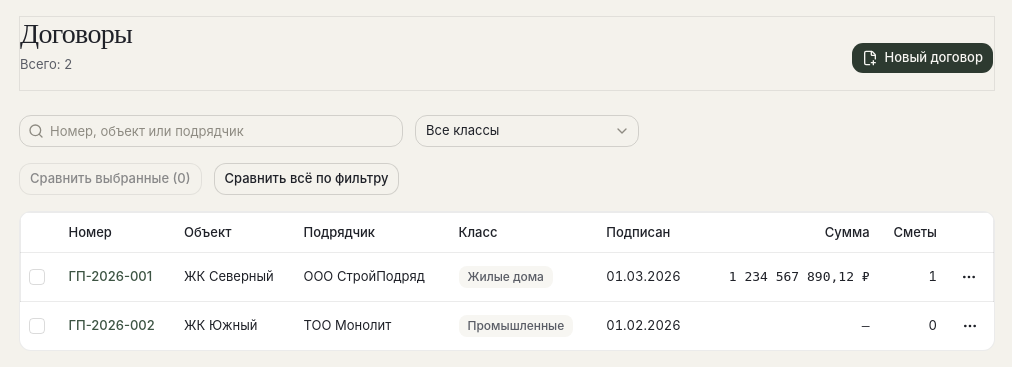
Экран «Договоры» (§7.1) › ищет договор по названию объекта
Check: the link "ГП-2026-001" is shown, box top-left (68, 268), bottom-right (152, 284)
In the field named "Поиск договоров": (223,131) top-left (44, 113), bottom-right (402, 149), type "Южный"
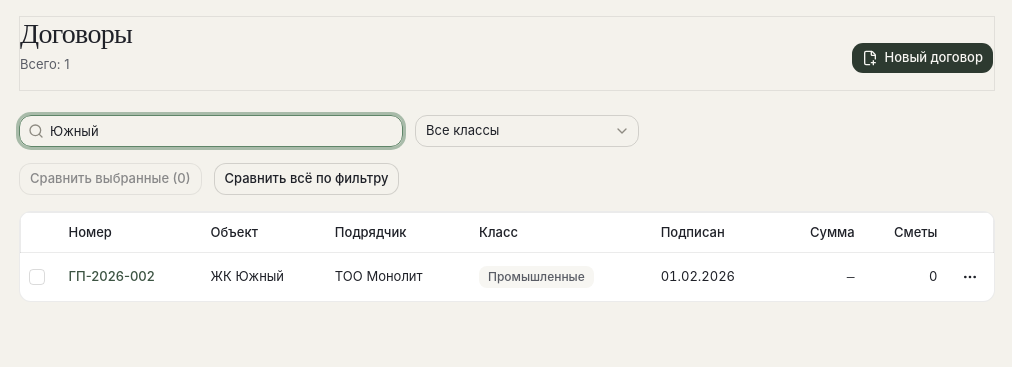
Check: the link "ГП-2026-002" is shown, box top-left (68, 268), bottom-right (155, 284)
Check: the link "ГП-2026-001" is gone
